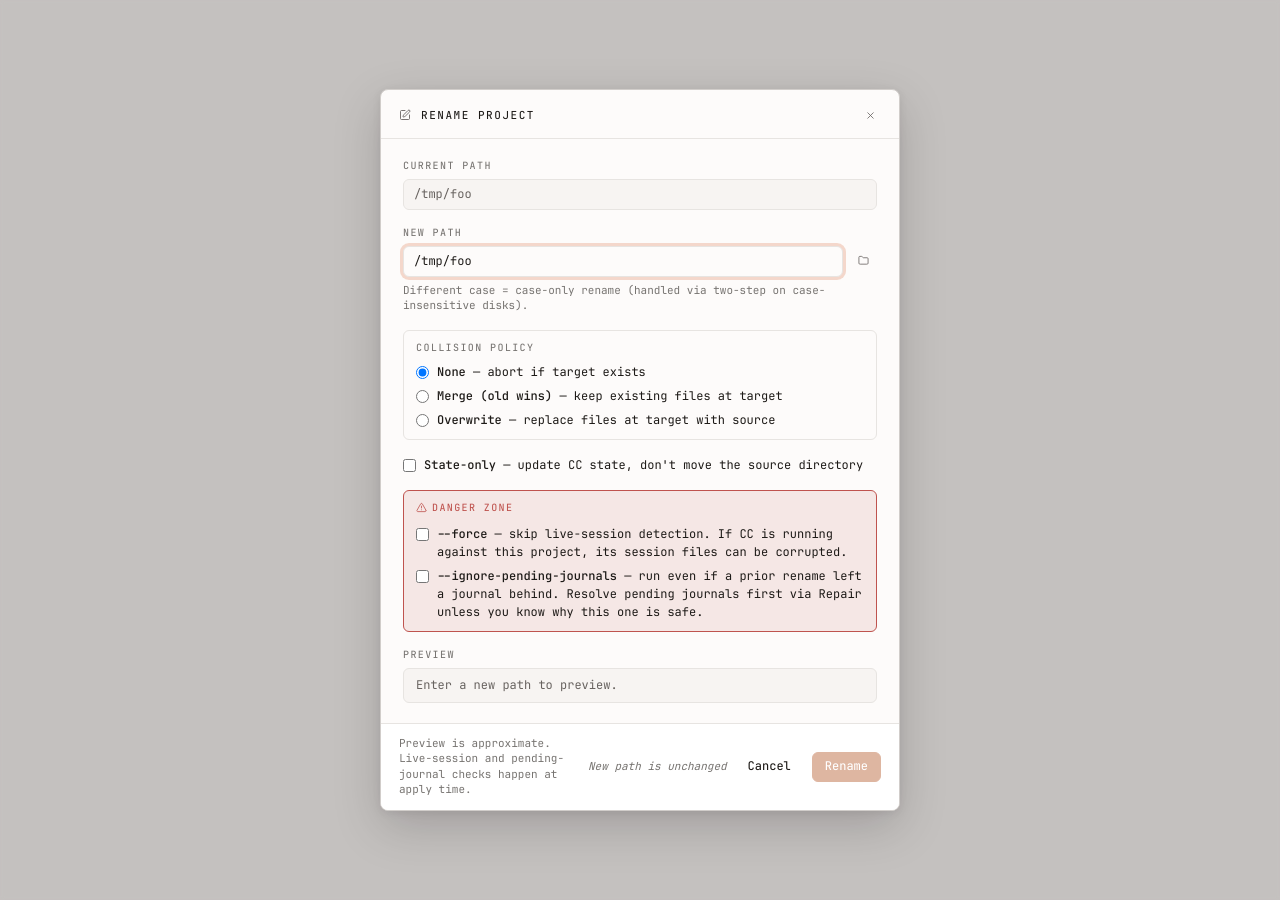
Scenario: RenameProjectModal › disables Rename when preview reports a conflict and collision=none
Clear the field labelled "New path" at (623, 262), box [403,246,843,277]
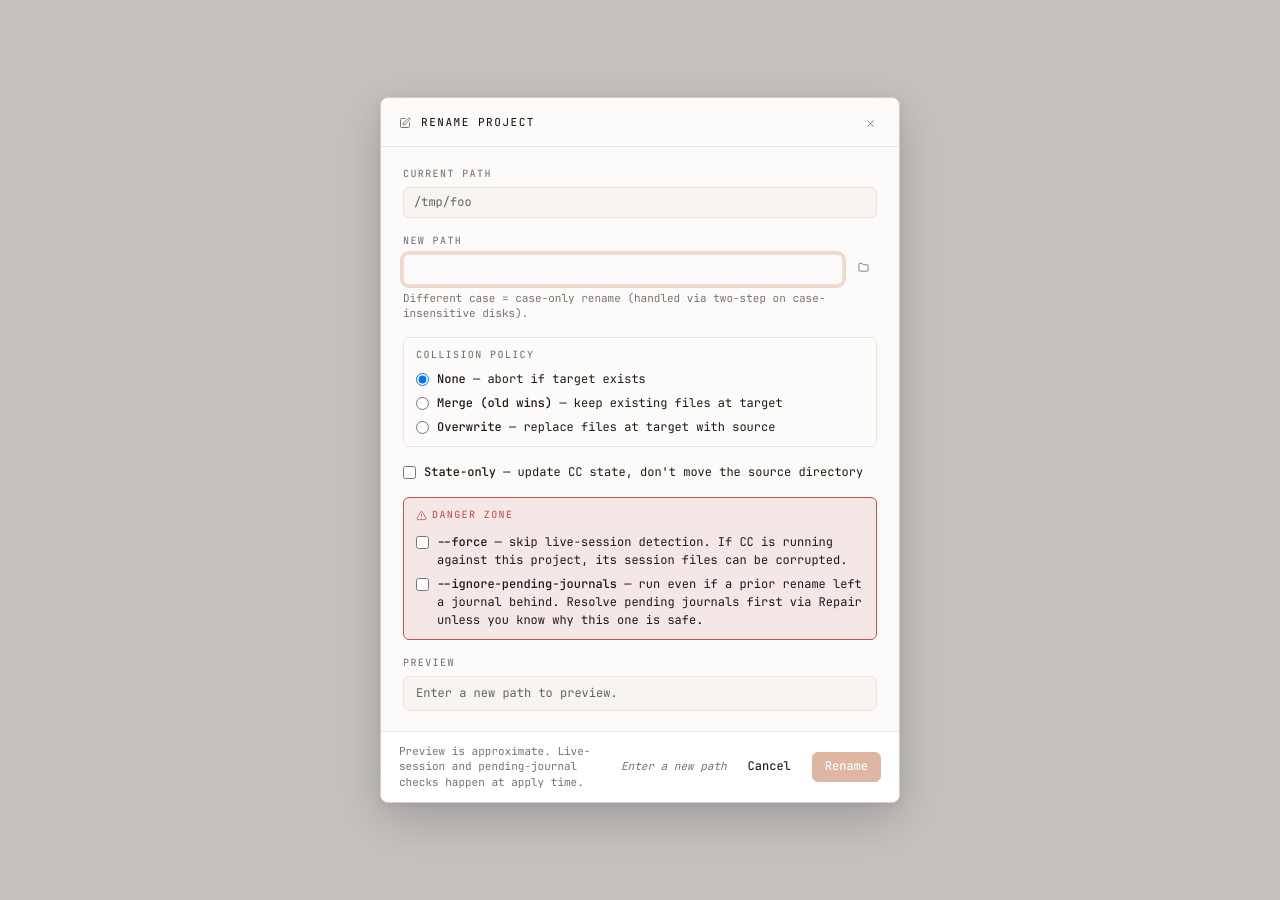
Type "/tmp/bar" into the field labelled "New path" at (623, 269), box [403,254,843,285]
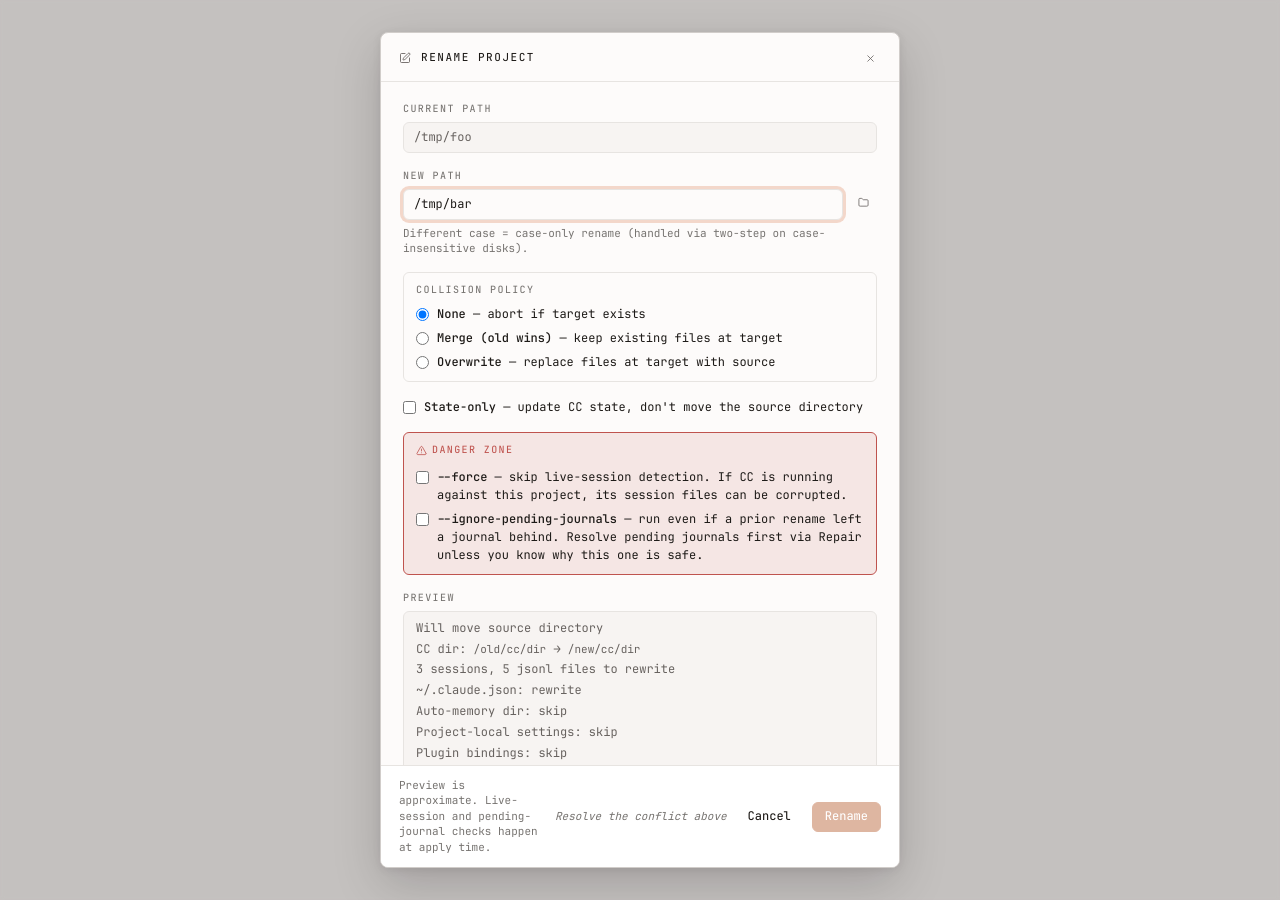
expect the button "Rename" is disabled: met, box [812,802,881,832]
Selecting Merge resolves the gate.
Click the radio button labelled "Merge (old wins) — keep existing files at target" at (422, 339), box [416,332,429,345]
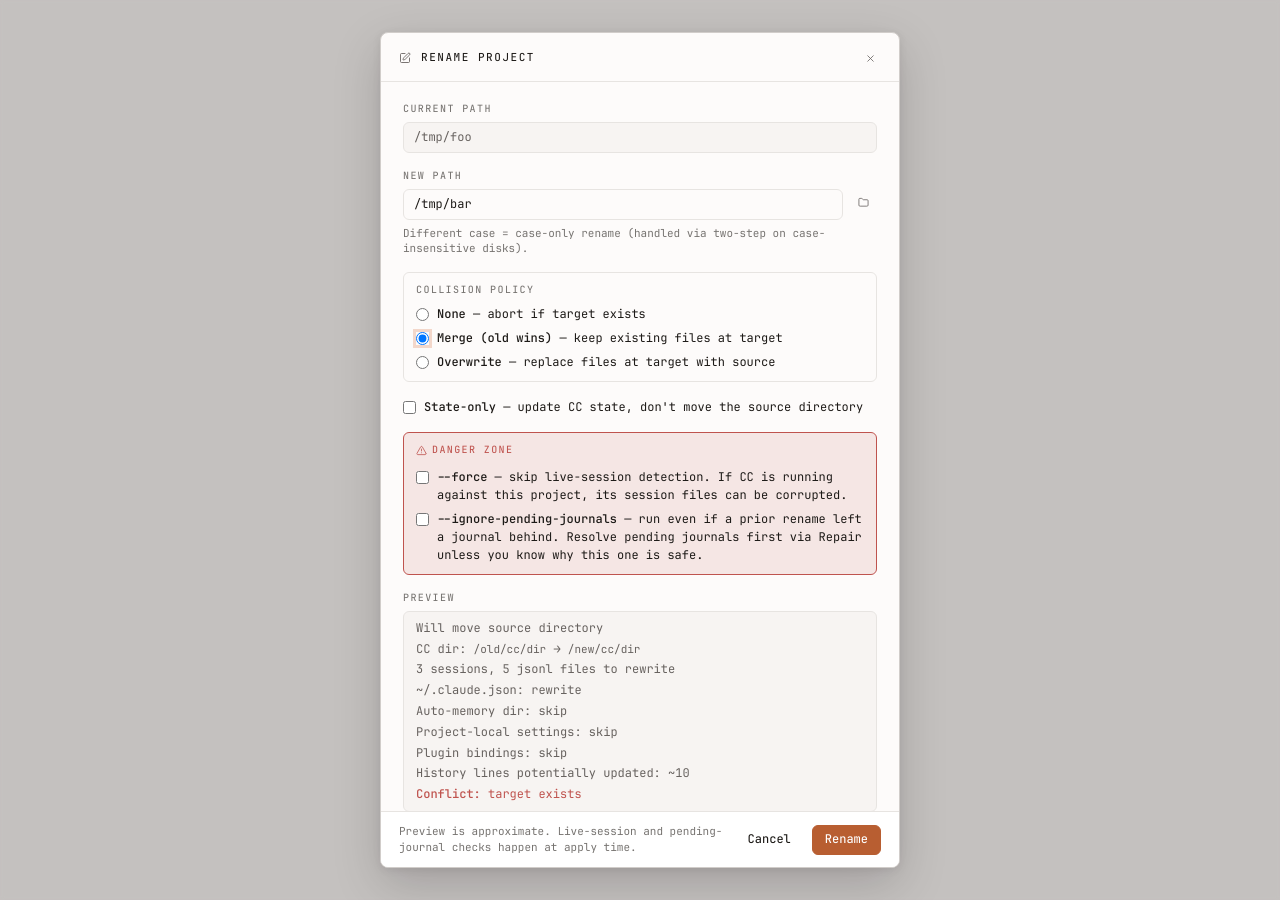
expect the button "Rename" is enabled: met, box [812,825,881,855]
